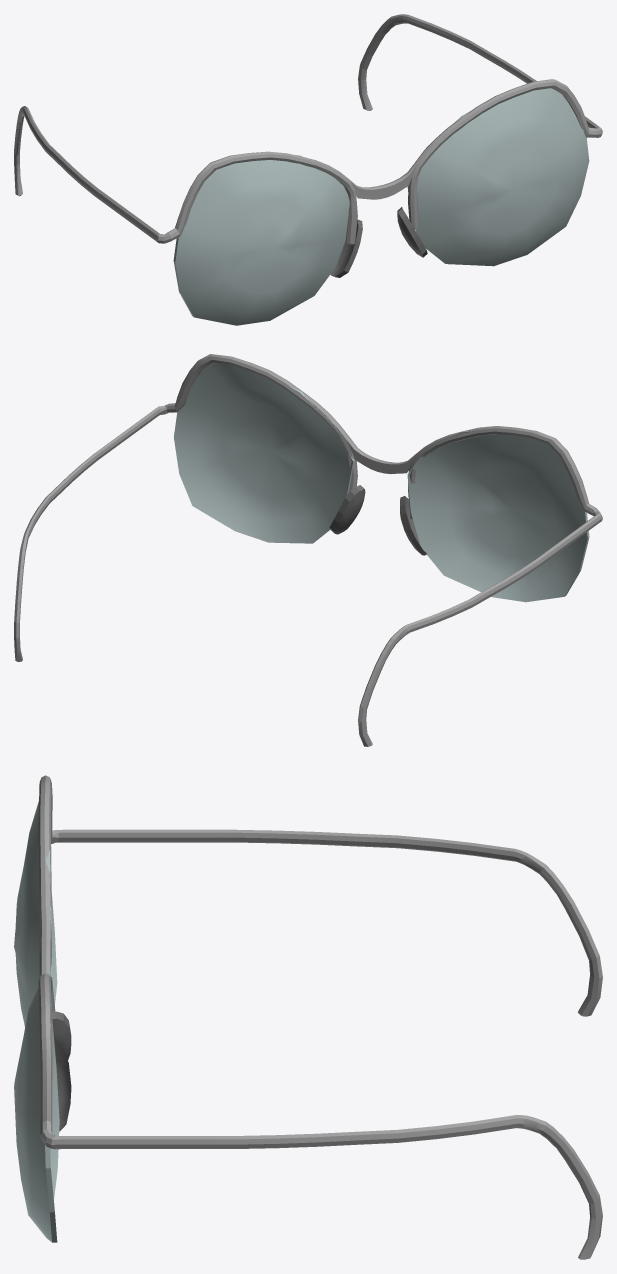
Rendered from glasses_lp.fbx.
3 renders of one model, top to bottom at view 1: azimuth 30°, elevation 25°; view 2: azimuth 150°, elevation 25°; view 3: azimuth 270°, elevation 25°, orthographic. The views are drawn at different scales.
Parts seen in each view (by area): view 1: glass_lp, armazón_lp, support_lp; view 2: glass_lp, armazón_lp, support_lp; view 3: armazón_lp, glass_lp, support_lp.
Part boxes in pixels (bbox=[...]): glass_lp: bbox=[173, 88, 589, 325]; armazón_lp: bbox=[14, 14, 602, 244]; support_lp: bbox=[330, 207, 427, 277]; glass_lp: bbox=[173, 359, 589, 602]; armazón_lp: bbox=[14, 354, 602, 746]; support_lp: bbox=[329, 485, 426, 555]; armazón_lp: bbox=[38, 775, 602, 1259]; glass_lp: bbox=[14, 801, 59, 1242]; support_lp: bbox=[52, 1011, 71, 1131].
Bounding box in the file's own units: 14.48 × 5.44 × 11.63.
3 materials, 3 textured.
